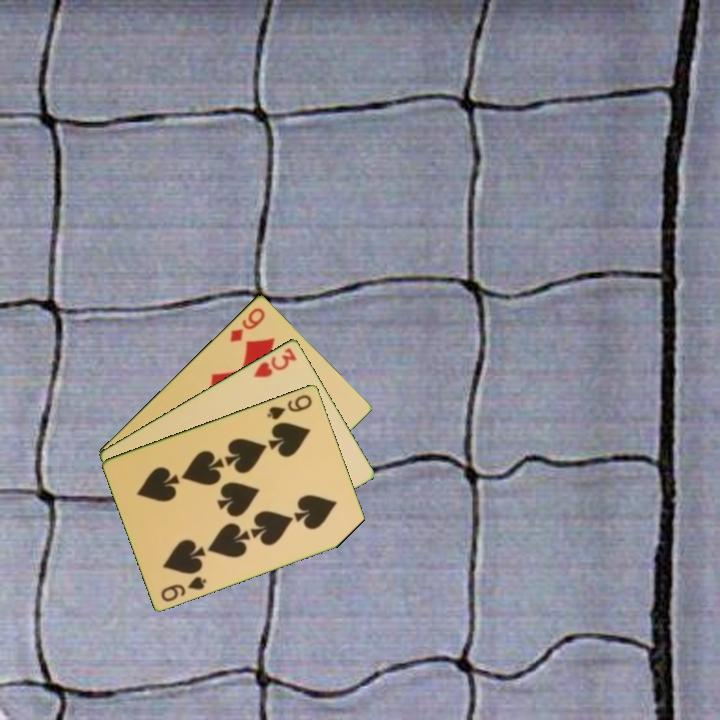3h: (250, 344, 300, 380)
9d: (226, 304, 268, 345)
9s: (263, 390, 315, 422), (157, 572, 209, 604)
